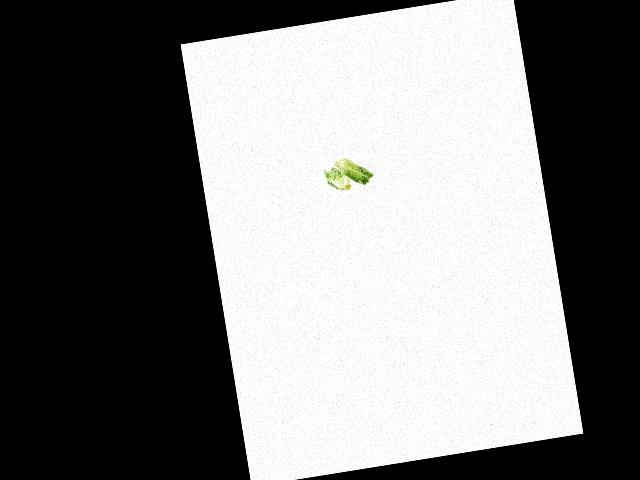lettuce: (322, 164, 353, 197)
